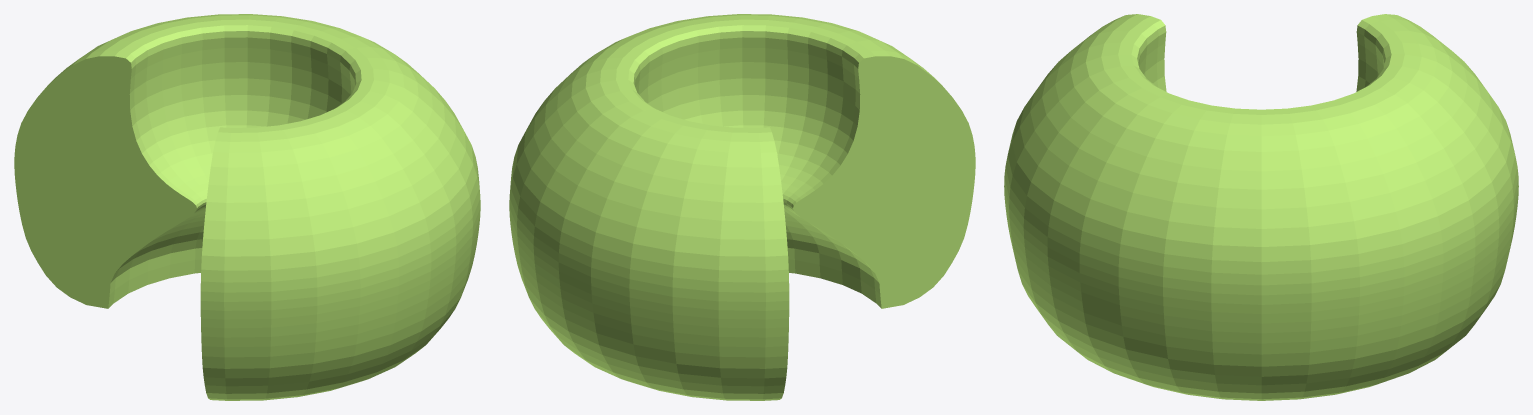
File: dobot_range.dae
3 renders of one model, left to right at view 1: azimuth 30°, elevation 25°; view 2: azimuth 150°, elevation 25°; view 3: azimuth 270°, elevation 25°, orthographic. The views are drawn at different scales.
Parts seen in each view (by area): view 1: Circle; view 2: Circle; view 3: Circle.
Boxes of the visible parts, <box> form: Circle: <box>14,14,480,400</box>; Circle: <box>509,14,975,400</box>; Circle: <box>1004,14,1518,400</box>.
Size of the model in its own units: 0.4474 by 0.5476 by 0.3175.
